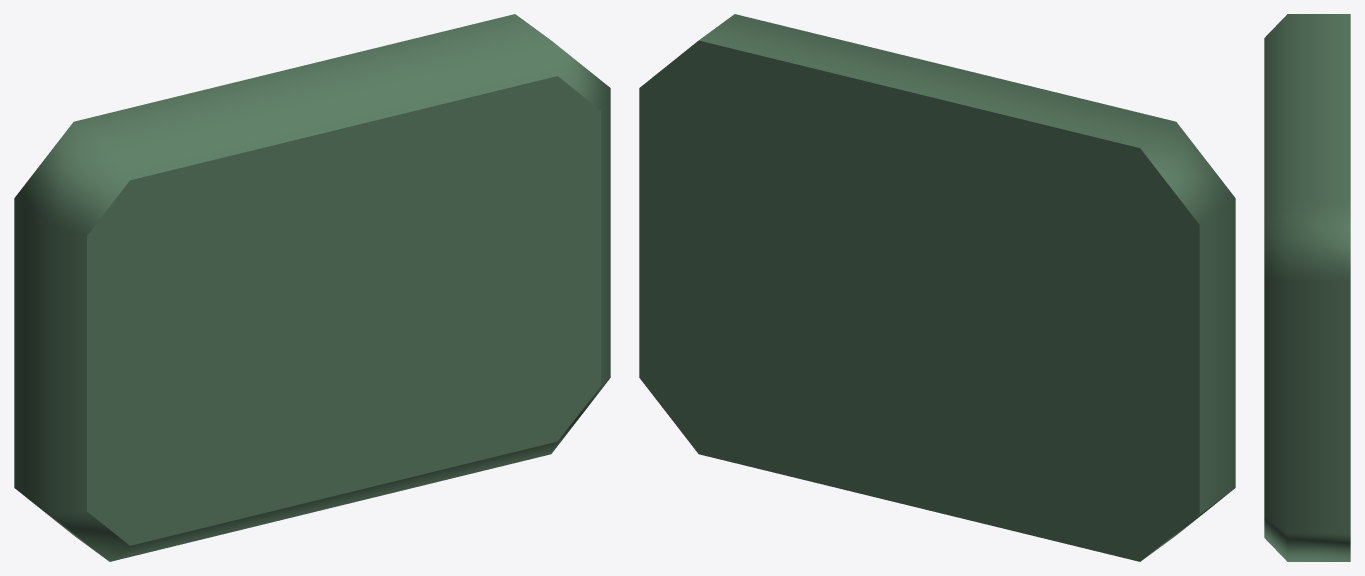
3 views of the same model, side by side, from view 1: azimuth 30°, elevation 25°; view 2: azimuth 150°, elevation 25°; view 3: azimuth 270°, elevation 25° (orthographic). The views are drawn at different scales.
Visible parts, largest first — view 1: t60_o2; view 2: t60_o2; view 3: t60_o2.
Boxes of the visible parts, box(x1,y1,x2,y2) form: t60_o2: box(14, 14, 610, 561); t60_o2: box(639, 14, 1235, 561); t60_o2: box(1264, 14, 1350, 561).
Bounding box in the file's own units: 1.7 × 1.2 × 0.26.
